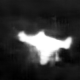plane: (15, 28, 74, 67)
